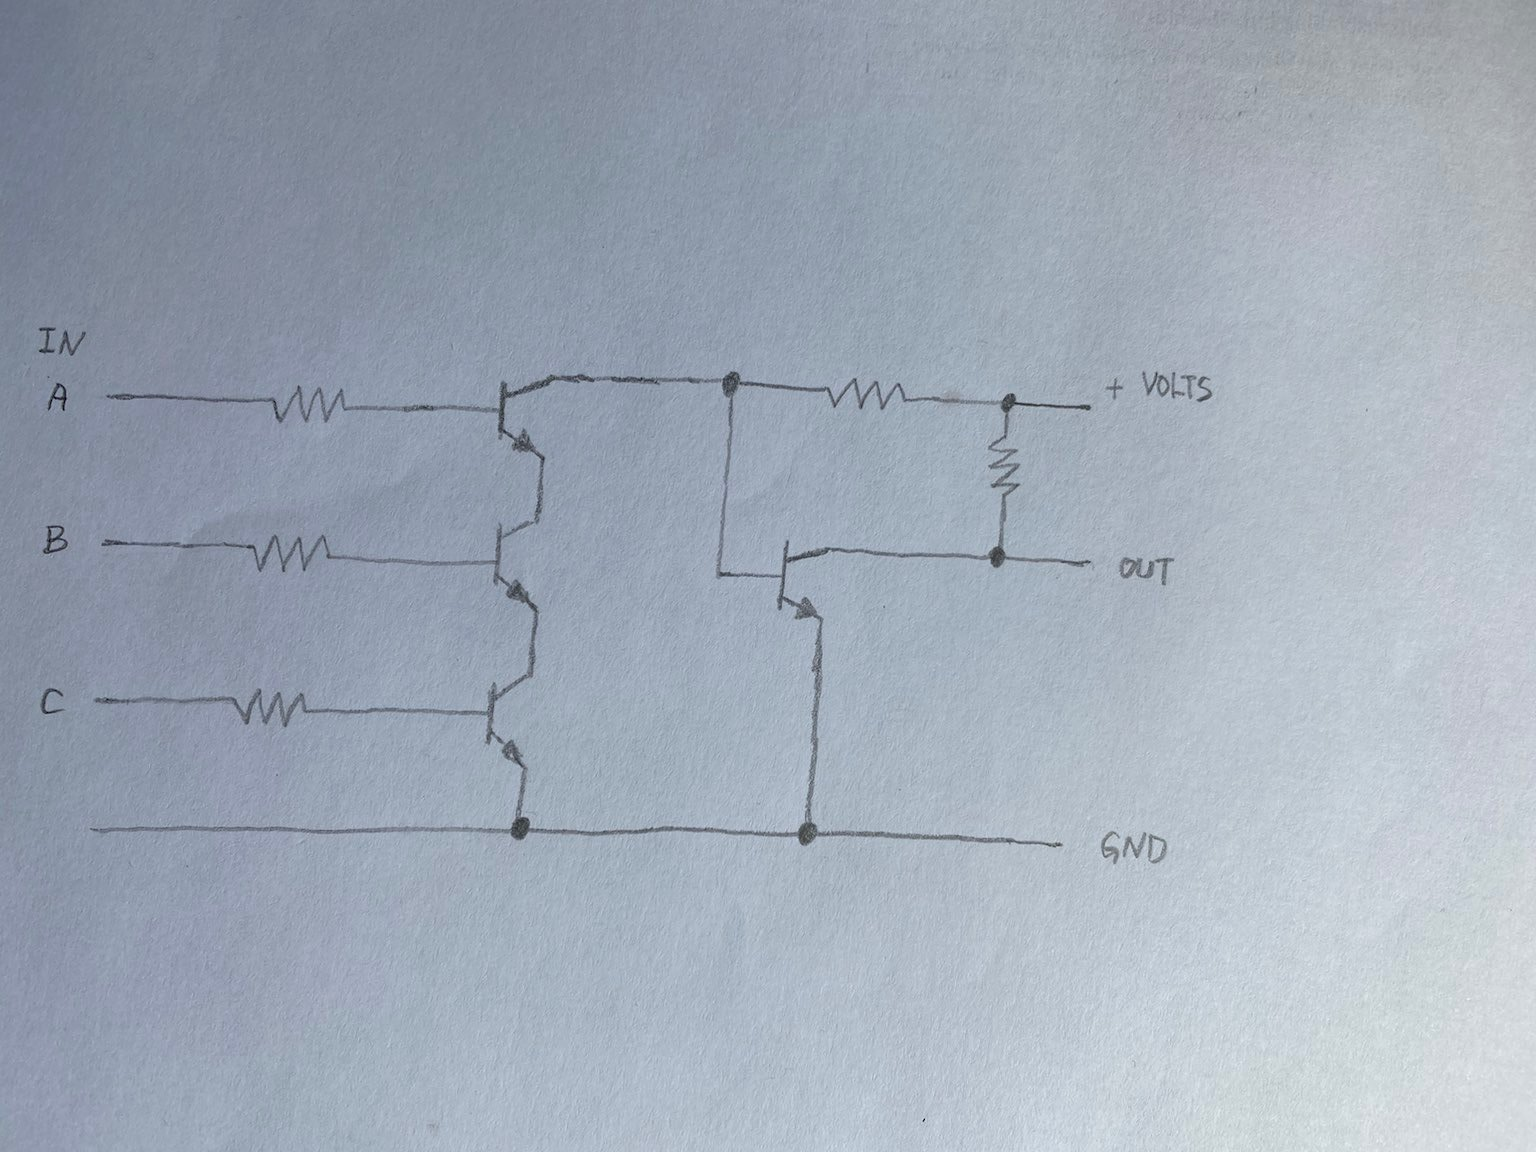junction: (783, 807, 835, 857), (493, 800, 541, 849), (976, 537, 1023, 578), (991, 371, 1024, 417), (716, 363, 747, 407)
resistor: (818, 363, 913, 420), (225, 682, 317, 735), (262, 378, 356, 428), (247, 529, 337, 581), (983, 430, 1028, 507)
terminal: (1076, 549, 1099, 574), (81, 819, 104, 841), (1050, 833, 1070, 856), (98, 387, 119, 407), (88, 689, 106, 710), (94, 532, 112, 552), (1080, 398, 1097, 415)
text: (1113, 537, 1184, 597), (1096, 818, 1171, 872), (1139, 363, 1217, 408), (30, 309, 93, 362), (22, 667, 73, 728), (35, 373, 81, 427), (33, 514, 81, 565), (1099, 368, 1128, 411)
transistor: (480, 352, 576, 474), (481, 509, 567, 627), (477, 666, 564, 778), (770, 528, 851, 644)
